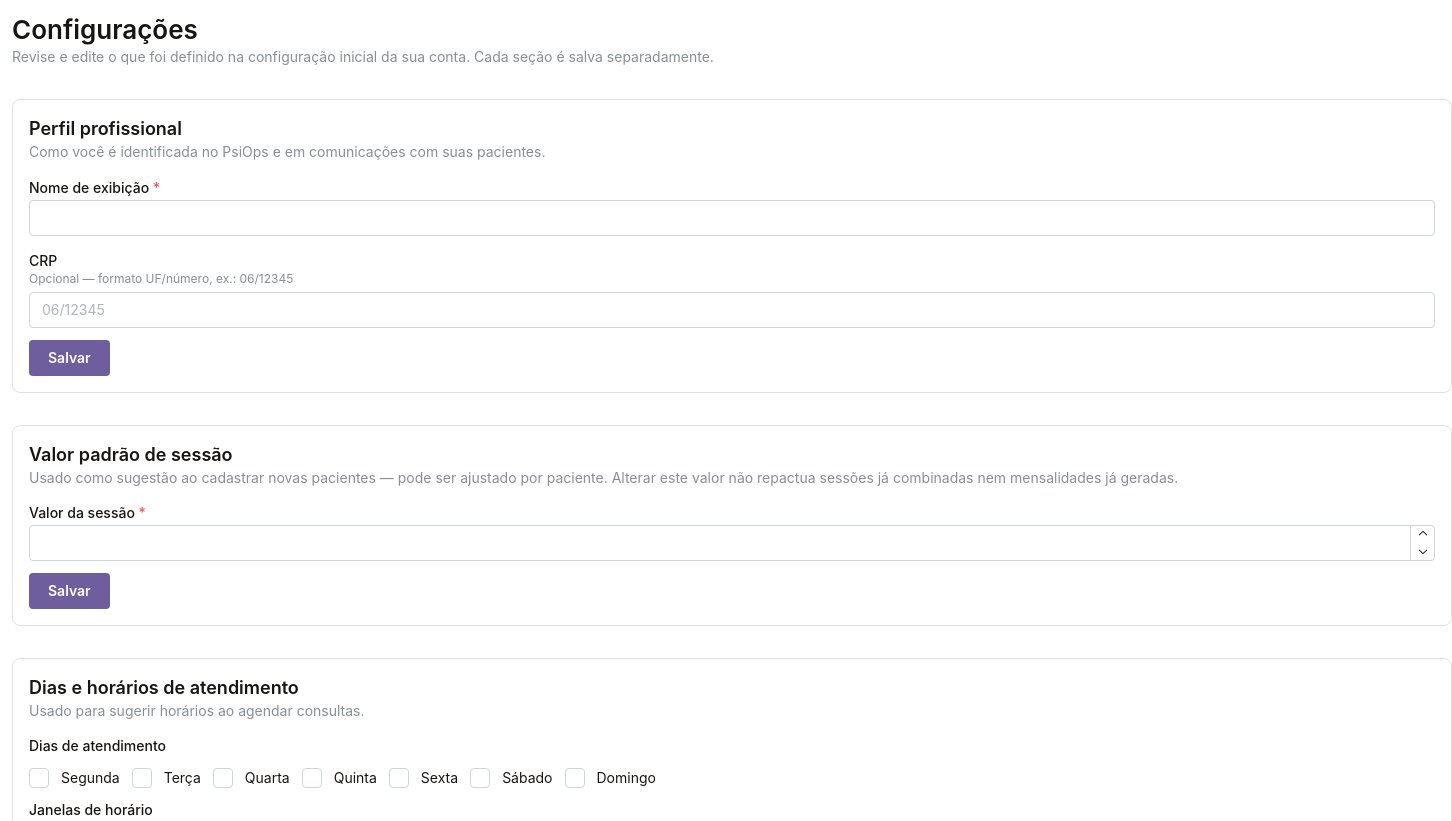
SettingsPage › seção perfil: valida o formato do CRP e não salva enquanto inválido
Expected: the element with test id "settings-section-perfil" is shown, x1=12 y1=99 x2=1451 y2=393
Type "Ana" into the field labelled "Nome de exibição" at (732,218), box x1=29 y1=200 x2=1435 y2=236
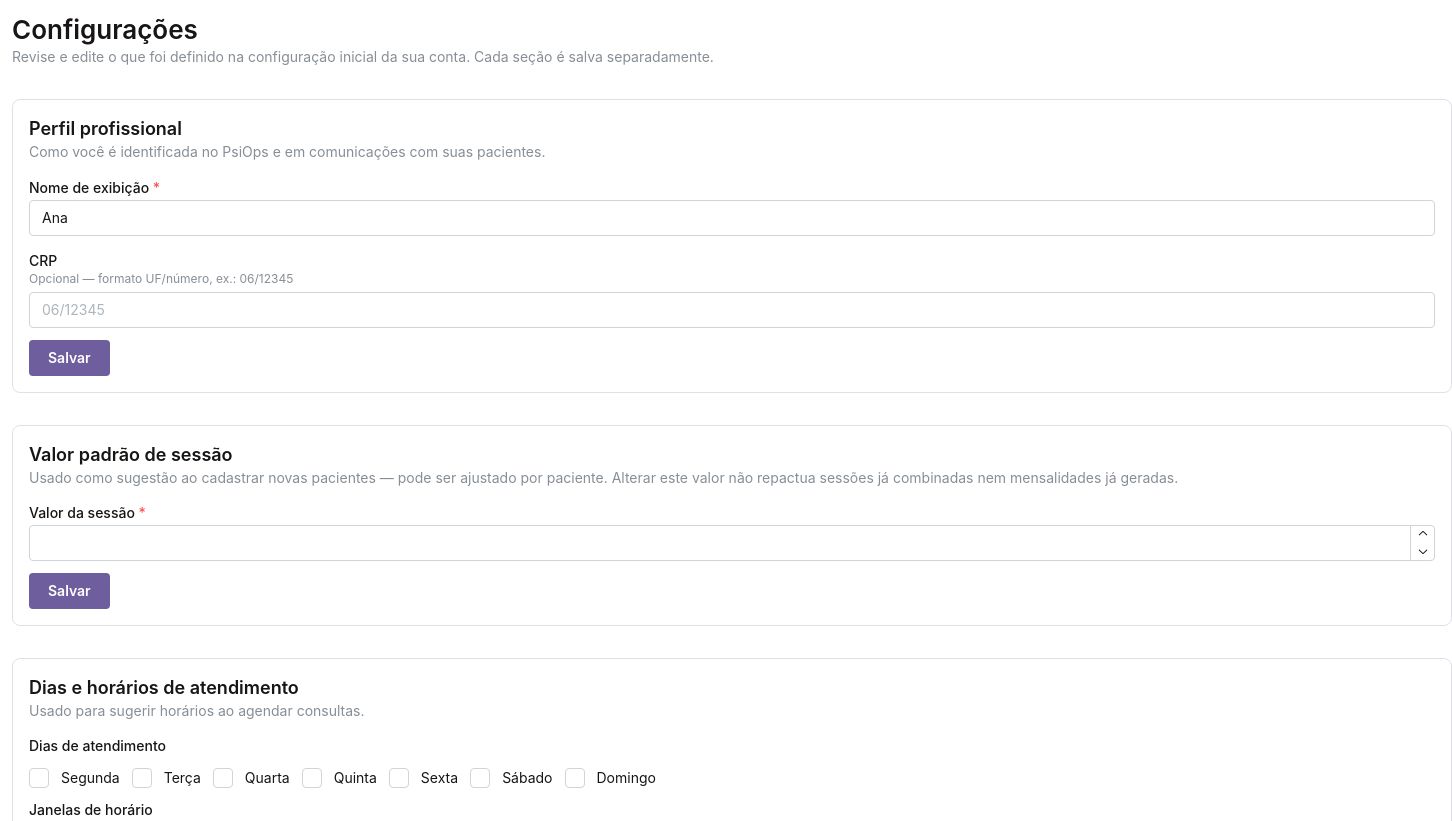
Type "invalido" into the field labelled "CRP" at (732,310), box x1=29 y1=292 x2=1435 y2=328
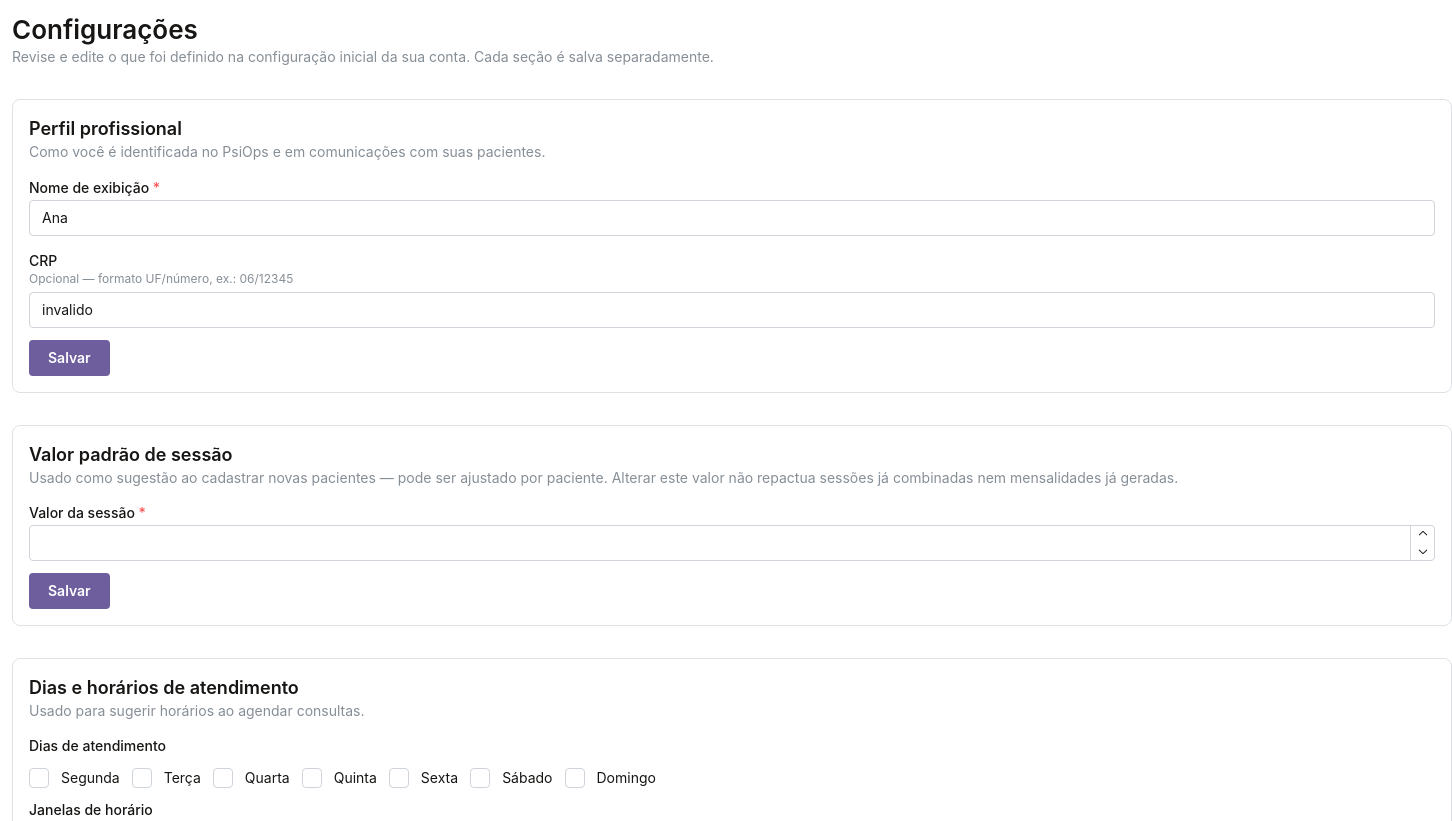
Click the submit button at (69,358), box x1=29 y1=340 x2=110 y2=376
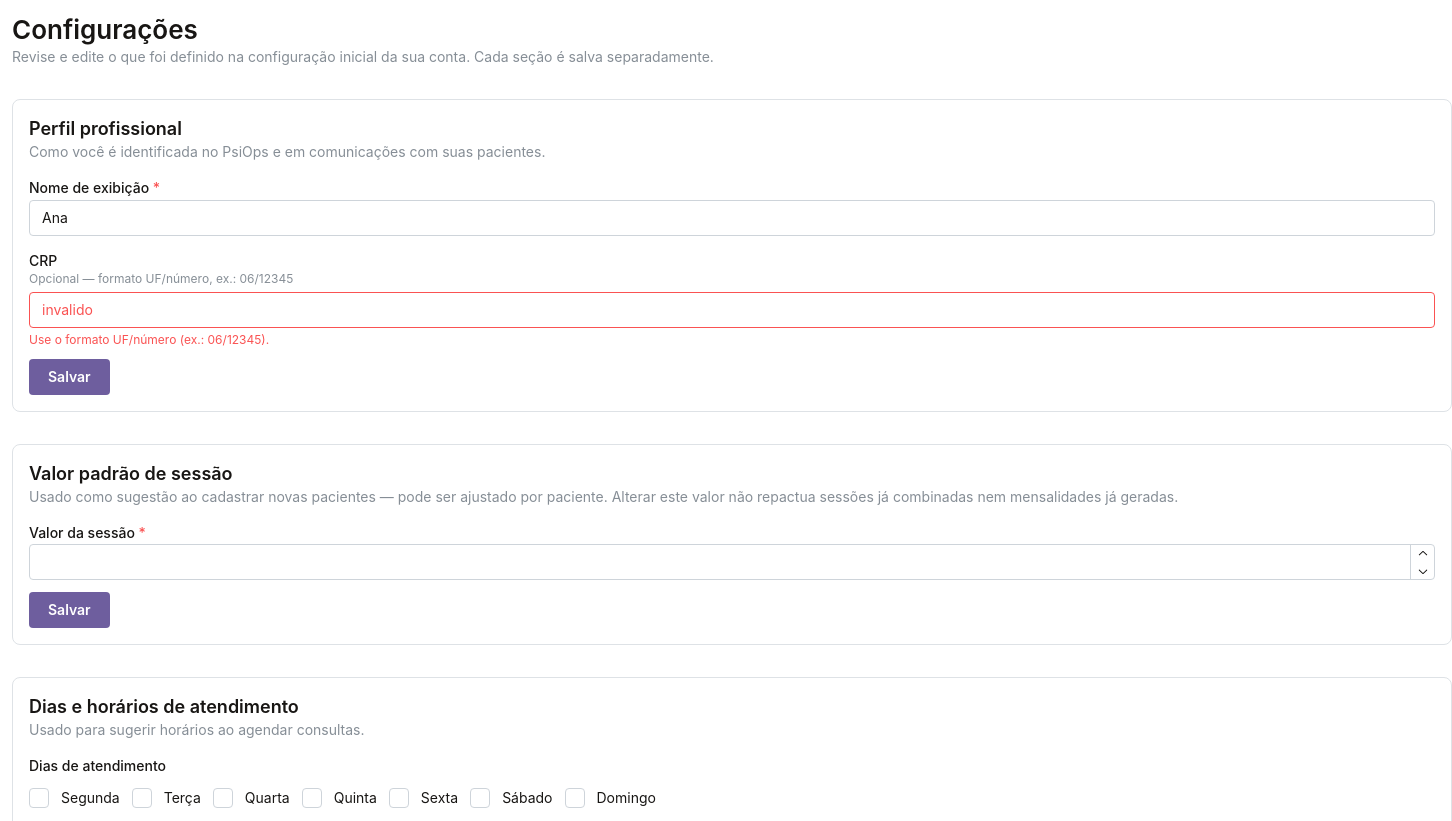
Expected: the text "Use o formato UF/número (ex.: 06/12345)." is shown, x1=29 y1=332 x2=269 y2=347
